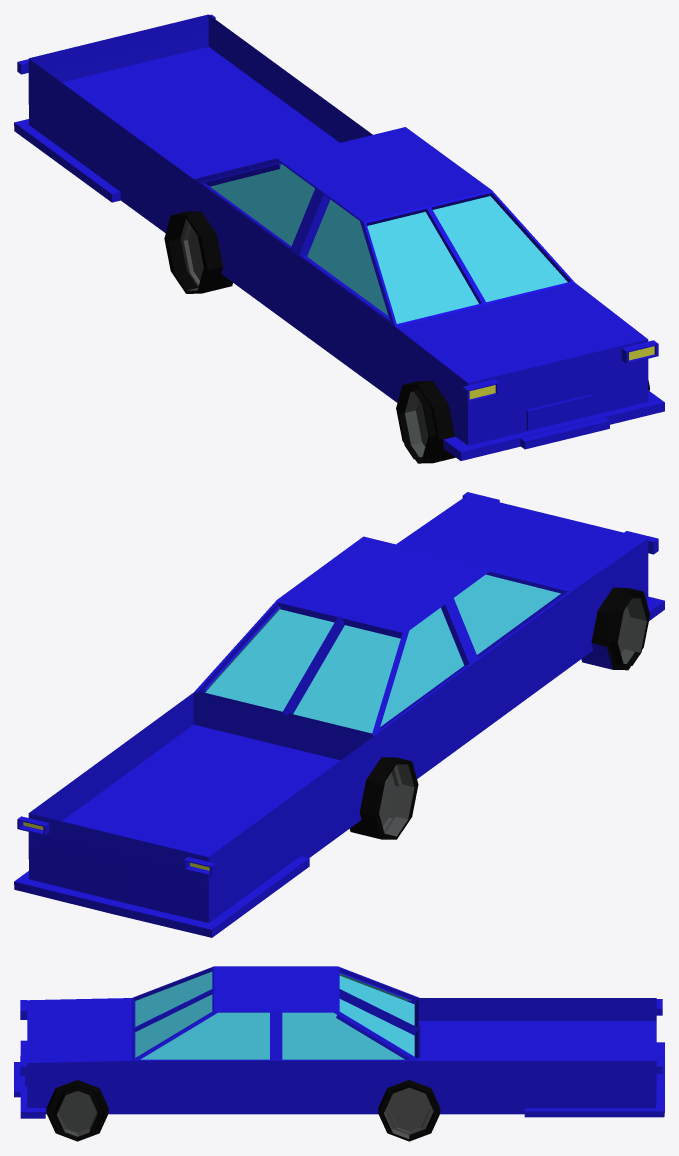
The model's file is Auto2.fbx.
3 renders of one model, top to bottom at view 1: azimuth 30°, elevation 25°; view 2: azimuth 150°, elevation 25°; view 3: azimuth 270°, elevation 25°, orthographic. The views are drawn at different scales.
Visible parts, largest first — view 1: Cube, Llantas traseras, Llantas delanteras; view 2: Cube, Llantas delanteras, Llantas traseras; view 3: Cube, Llantas traseras, Llantas delanteras.
Boxes of the visible parts, bbox=[...] form: Cube: bbox=[14, 14, 664, 460]; Llantas traseras: bbox=[164, 211, 232, 293]; Llantas delanteras: bbox=[396, 380, 649, 463]; Cube: bbox=[14, 492, 664, 937]; Llantas delanteras: bbox=[581, 587, 649, 670]; Llantas traseras: bbox=[350, 757, 418, 839]; Cube: bbox=[14, 966, 664, 1118]; Llantas traseras: bbox=[378, 1025, 440, 1141]; Llantas delanteras: bbox=[46, 1080, 108, 1141].
Size of the model in its own units: 300 by 213 by 1083.
